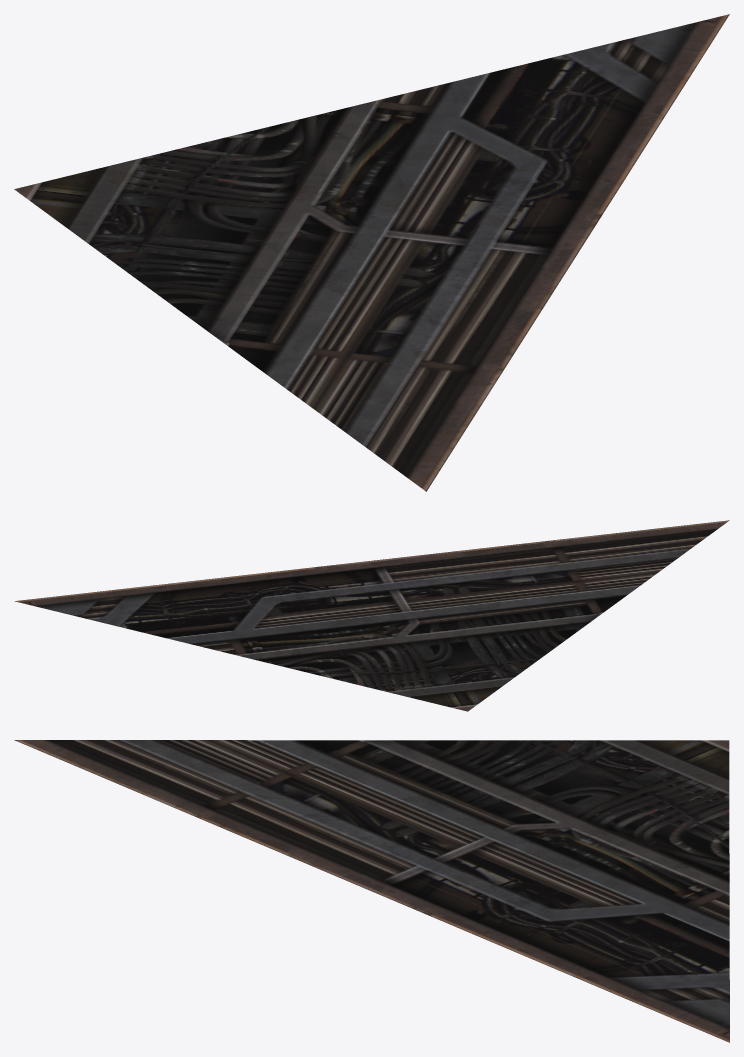
File: Ceiling_A_04.fbx
3 renders of one model, top to bottom at view 1: azimuth 30°, elevation 25°; view 2: azimuth 150°, elevation 25°; view 3: azimuth 270°, elevation 25°, orthographic. The views are drawn at different scales.
Parts seen in each view (by area): view 1: Ceiling_A_04; view 2: Ceiling_A_04; view 3: Ceiling_A_04.
Part boxes in pixels (x1,y1,x2,y2): Ceiling_A_04: [14, 14, 729, 491]; Ceiling_A_04: [15, 520, 729, 711]; Ceiling_A_04: [14, 740, 729, 1042].
Size of the model in its own units: 300 by 0.000174 by 300.
Materials: 1 (1 with a texture image).
